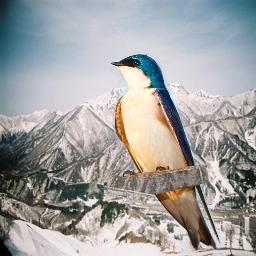Swallow: (110, 53, 222, 251)
